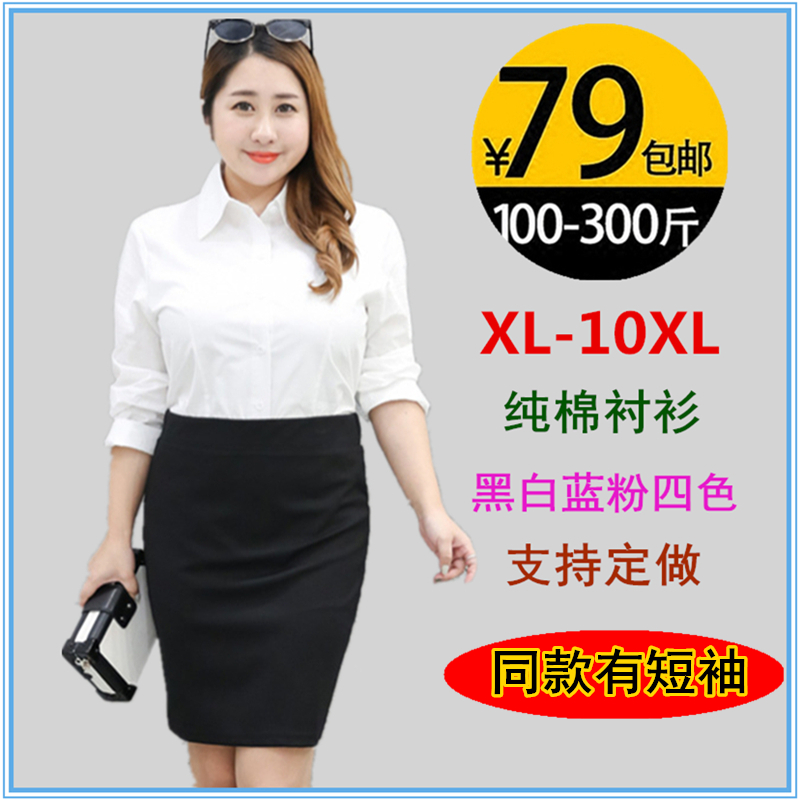F_shirt: (68, 170, 471, 442)
F_tailored skirt: (126, 415, 381, 778)
